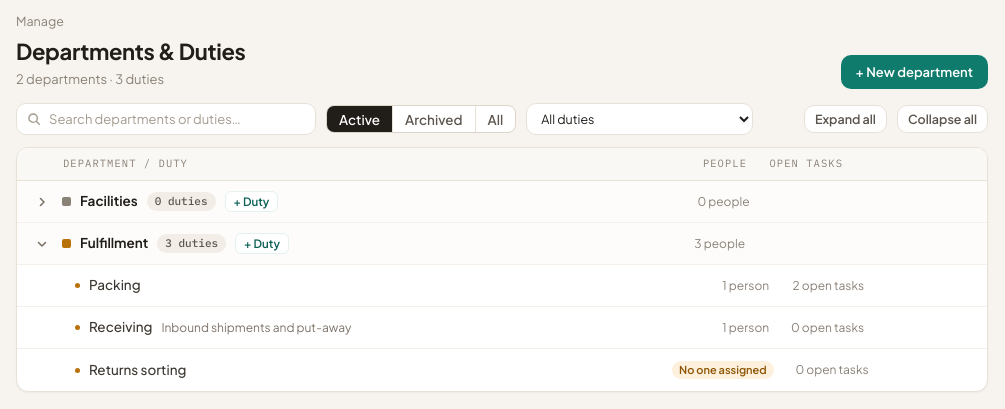
Test: DepartmentsPage › remembers Expand / Collapse all for the user
Expected: the text "Packing" is shown, [89,275,141,296]
Click the button "Collapse all" at (942, 119), box [897,105,988,133]
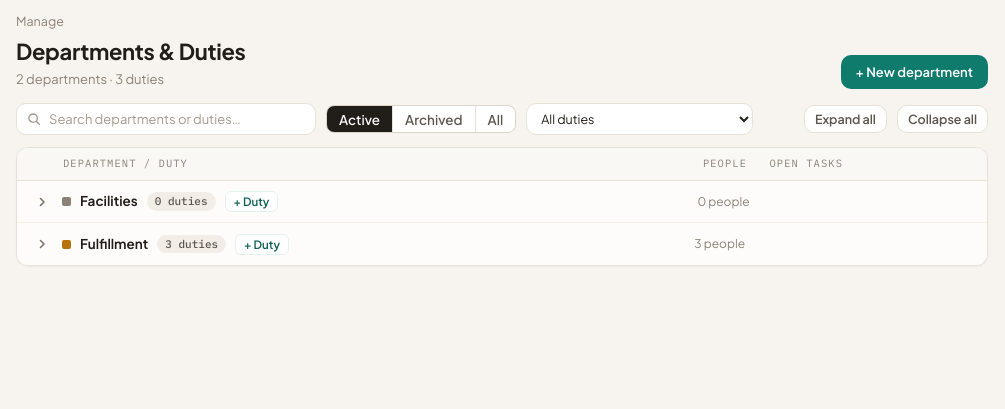
Expected: the text "Packing" is gone
